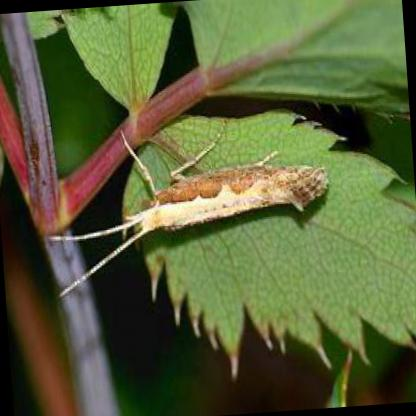plutella: (40, 122, 331, 301)
